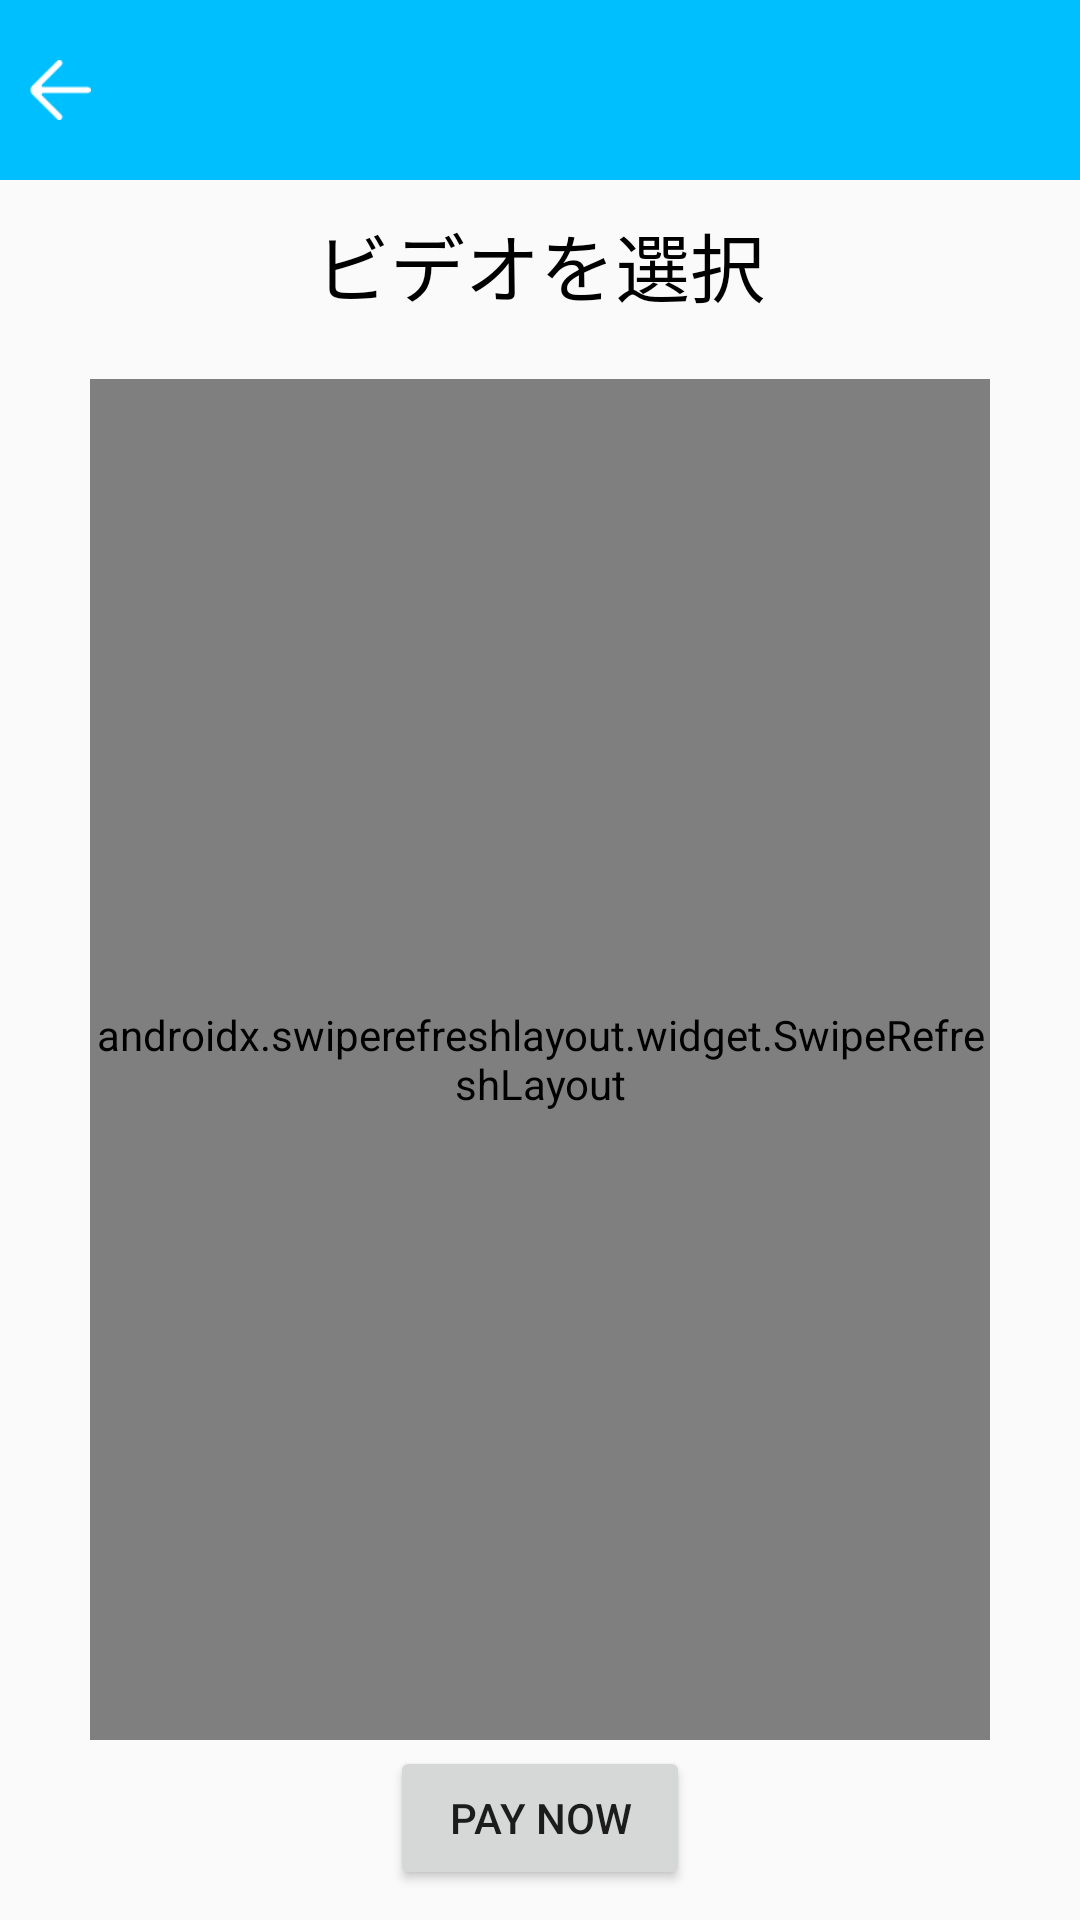

Icon click points for this 1080px×1920px phone screenshot, format (x=x, y=y):
back: (x=60, y=90)
